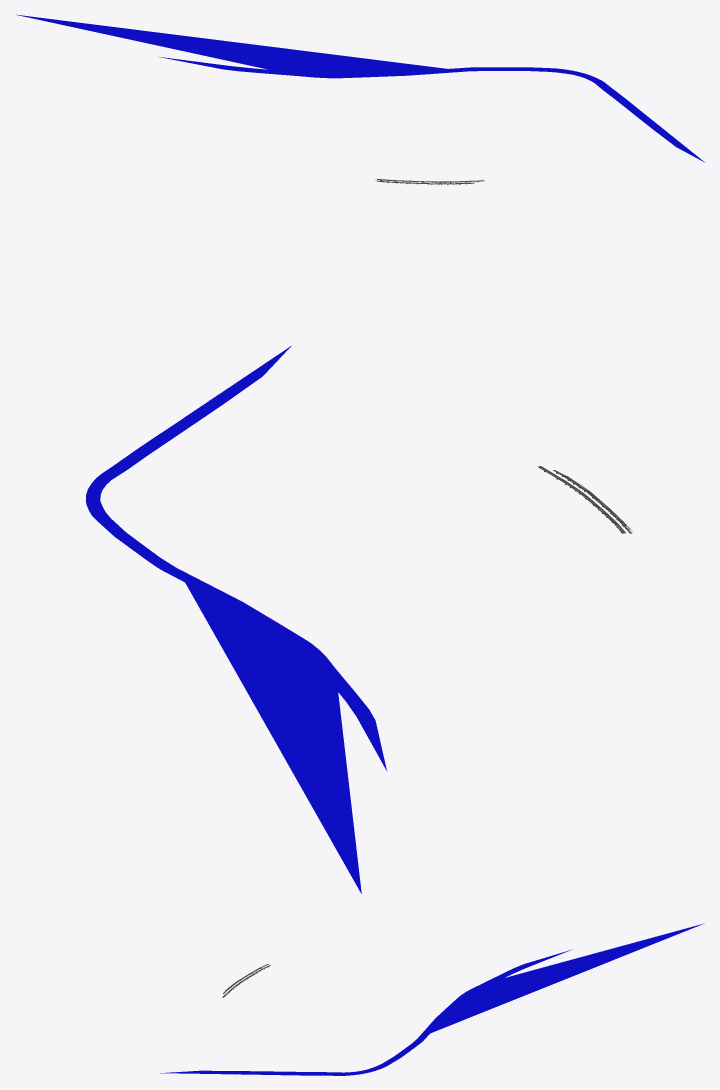
The picture shows the model from 3 angles, top to bottom: view 1: azimuth 30°, elevation 25°; view 2: azimuth 150°, elevation 25°; view 3: azimuth 270°, elevation 25°; orthographic projection. The views are drawn at different scales.
Bounding box in the file's own units: 1275 × 3 × 2439.
